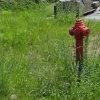a fire hydrant: (69, 17, 92, 72)
